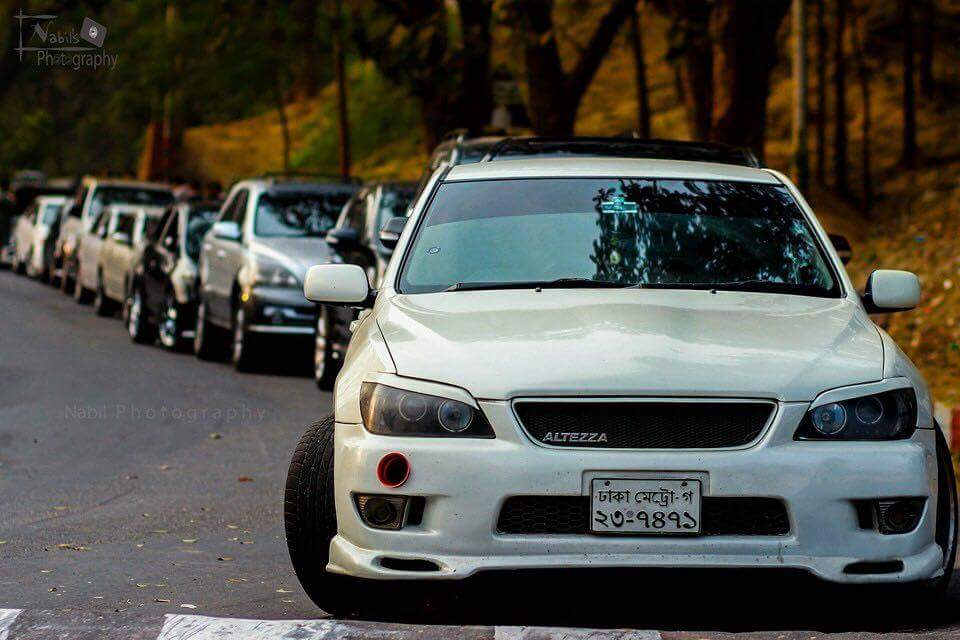registration_plate: (590, 478, 702, 536)
